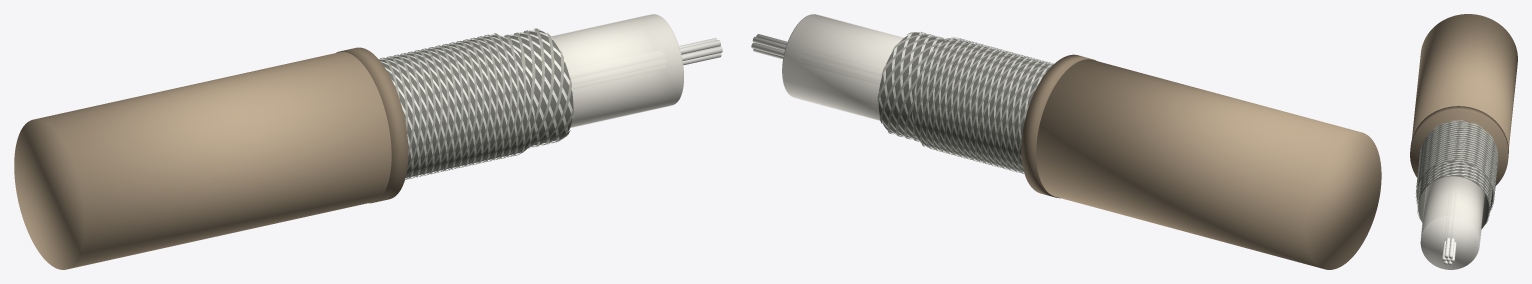
Rendered from rf-sucoflex501.glb.
3 renders of one model, left to right at view 1: azimuth 30°, elevation 25°; view 2: azimuth 150°, elevation 25°; view 3: azimuth 270°, elevation 25°, orthographic. The views are drawn at different scales.
Visible parts, largest first — view 1: matte black pvc jacket body, smooth dielectric skin, gas injected foam dielectric, braid dark diamond recess, jacket cut lip, inner braid dark diamond recess, braid left hand woven carrier 01, braid left hand woven carrier 12, braid left hand woven carrier 02, braid left hand woven carrier 11, braid left hand woven carrier 03, braid left hand woven carrier 10 (+9 smaller); view 2: matte black pvc jacket body, smooth dielectric skin, gas injected foam dielectric, braid dark diamond recess, jacket cut lip, inner braid dark diamond recess, braid left hand woven carrier 09, braid left hand woven carrier 08, braid left hand woven carrier 10, braid left hand woven carrier 07, braid left hand woven carrier 11, braid left hand woven carrier 06 (+8 smaller); view 3: matte black pvc jacket body, gas injected foam dielectric, braid dark diamond recess, smooth dielectric skin, jacket cut lip, inner braid dark diamond recess, braid left hand woven carrier 11, braid left hand woven carrier 10, braid left hand woven carrier 09, braid left hand woven carrier 08, braid left hand woven carrier 12, braid left hand woven carrier 07 (+28 smaller).
Part boxes in pixels (left/top/right/bottom): matte black pvc jacket body: left=14, top=52, right=391, bottom=269; smooth dielectric skin: left=551, top=14, right=682, bottom=127; gas injected foam dielectric: left=551, top=14, right=683, bottom=127; braid dark diamond recess: left=380, top=35, right=533, bottom=177; jacket cut lip: left=336, top=47, right=408, bottom=203; inner braid dark diamond recess: left=505, top=30, right=573, bottom=145; braid left hand woven carrier 01: left=405, top=33, right=512, bottom=177; braid left hand woven carrier 12: left=400, top=34, right=505, bottom=169; braid left hand woven carrier 02: left=405, top=38, right=519, bottom=179; braid left hand woven carrier 11: left=393, top=36, right=498, bottom=167; braid left hand woven carrier 03: left=406, top=48, right=526, bottom=179; braid left hand woven carrier 10: left=386, top=37, right=491, bottom=169; matte black pvc jacket body: left=1036, top=59, right=1381, bottom=269; smooth dielectric skin: left=783, top=14, right=903, bottom=120; gas injected foam dielectric: left=782, top=14, right=903, bottom=120; braid dark diamond recess: left=912, top=38, right=1052, bottom=171; jacket cut lip: left=1021, top=54, right=1096, bottom=198; inner braid dark diamond recess: left=878, top=33, right=944, bottom=139; braid left hand woven carrier 09: left=919, top=46, right=1051, bottom=167; braid left hand woven carrier 08: left=926, top=47, right=1046, bottom=169; braid left hand woven carrier 10: left=913, top=44, right=1053, bottom=166; braid left hand woven carrier 07: left=932, top=49, right=1038, bottom=171; braid left hand woven carrier 11: left=911, top=42, right=1053, bottom=164; braid left hand woven carrier 06: left=938, top=51, right=1029, bottom=172; matte black pvc jacket body: left=1412, top=14, right=1517, bottom=148; gas injected foam dielectric: left=1420, top=176, right=1484, bottom=269; braid dark diamond recess: left=1417, top=121, right=1497, bottom=208; smooth dielectric skin: left=1420, top=176, right=1484, bottom=245; jacket cut lip: left=1410, top=106, right=1508, bottom=185; inner braid dark diamond recess: left=1418, top=161, right=1491, bottom=228; braid left hand woven carrier 11: left=1417, top=128, right=1496, bottom=193; braid left hand woven carrier 10: left=1417, top=126, right=1497, bottom=209; braid left hand woven carrier 09: left=1417, top=124, right=1497, bottom=199; braid left hand woven carrier 08: left=1417, top=122, right=1497, bottom=198; braid left hand woven carrier 12: left=1416, top=130, right=1496, bottom=185; braid left hand woven carrier 07: left=1417, top=120, right=1497, bottom=197.
Size of the model in its own units: 6.53 by 1.34 by 1.47.
